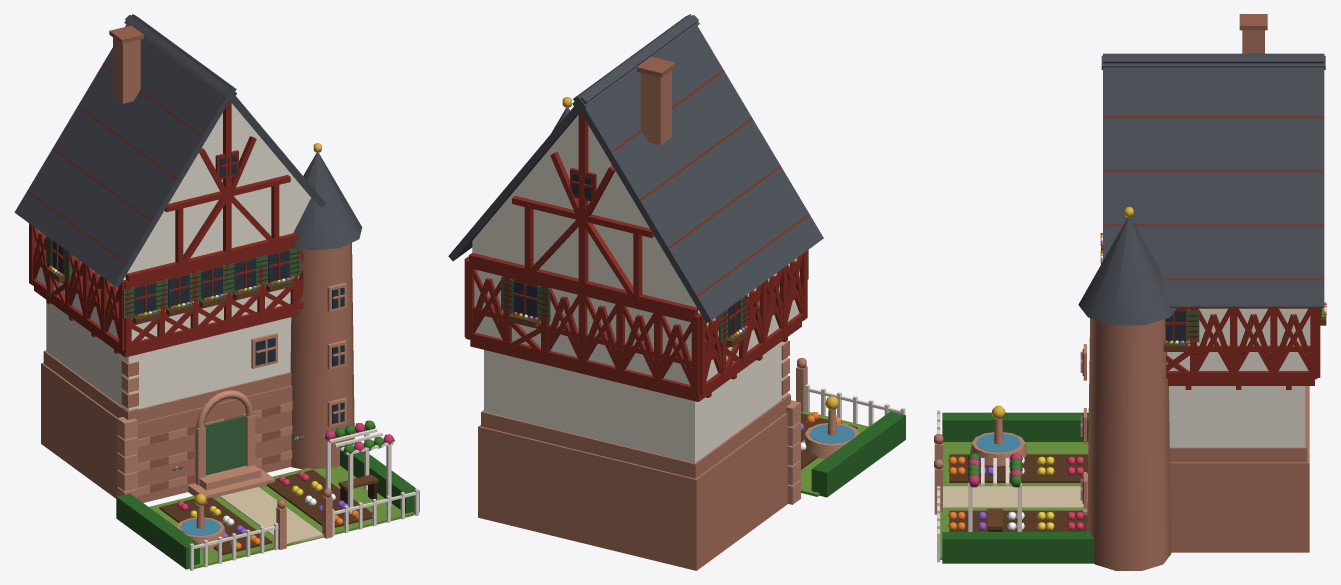
File: wohnhaus_4.glb
3 views of the same model, side by side, from view 1: azimuth 30°, elevation 25°; view 2: azimuth 150°, elevation 25°; view 3: azimuth 270°, elevation 25° (orthographic). The views are drawn at different scales.
Size of the model in its own units: 4.61 by 7.22 by 5.57.
